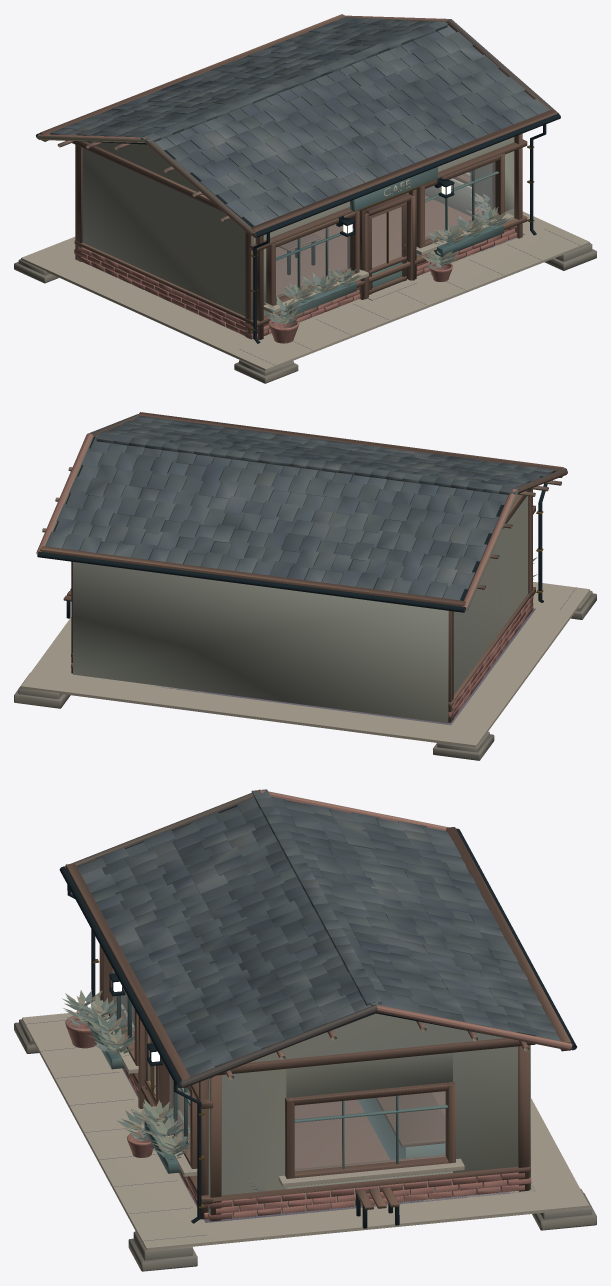
File: cafe.glb
The picture shows the model from 3 angles, top to bottom: view 1: azimuth 30°, elevation 25°; view 2: azimuth 150°, elevation 25°; view 3: azimuth 270°, elevation 25°; orthographic projection. The views are drawn at different scales.
Parts seen in each view (by area): view 1: cafe__01_카페_건물·실내, cafe__02_카페_석재기초; view 2: cafe__01_카페_건물·실내, cafe__02_카페_석재기초; view 3: cafe__01_카페_건물·실내, cafe__02_카페_석재기초.
Boxes of the visible parts, x1,y1,x2,y2 form: cafe__01_카페_건물·실내: (21, 14, 589, 370); cafe__02_카페_석재기초: (14, 243, 596, 383); cafe__01_카페_건물·실내: (21, 412, 589, 747); cafe__02_카페_석재기초: (14, 590, 596, 760); cafe__01_카페_건물·실내: (22, 789, 589, 1250); cafe__02_카페_석재기초: (14, 1019, 596, 1271).
Bounding box in the file's own units: 12.93 × 5.03 × 11.39.
